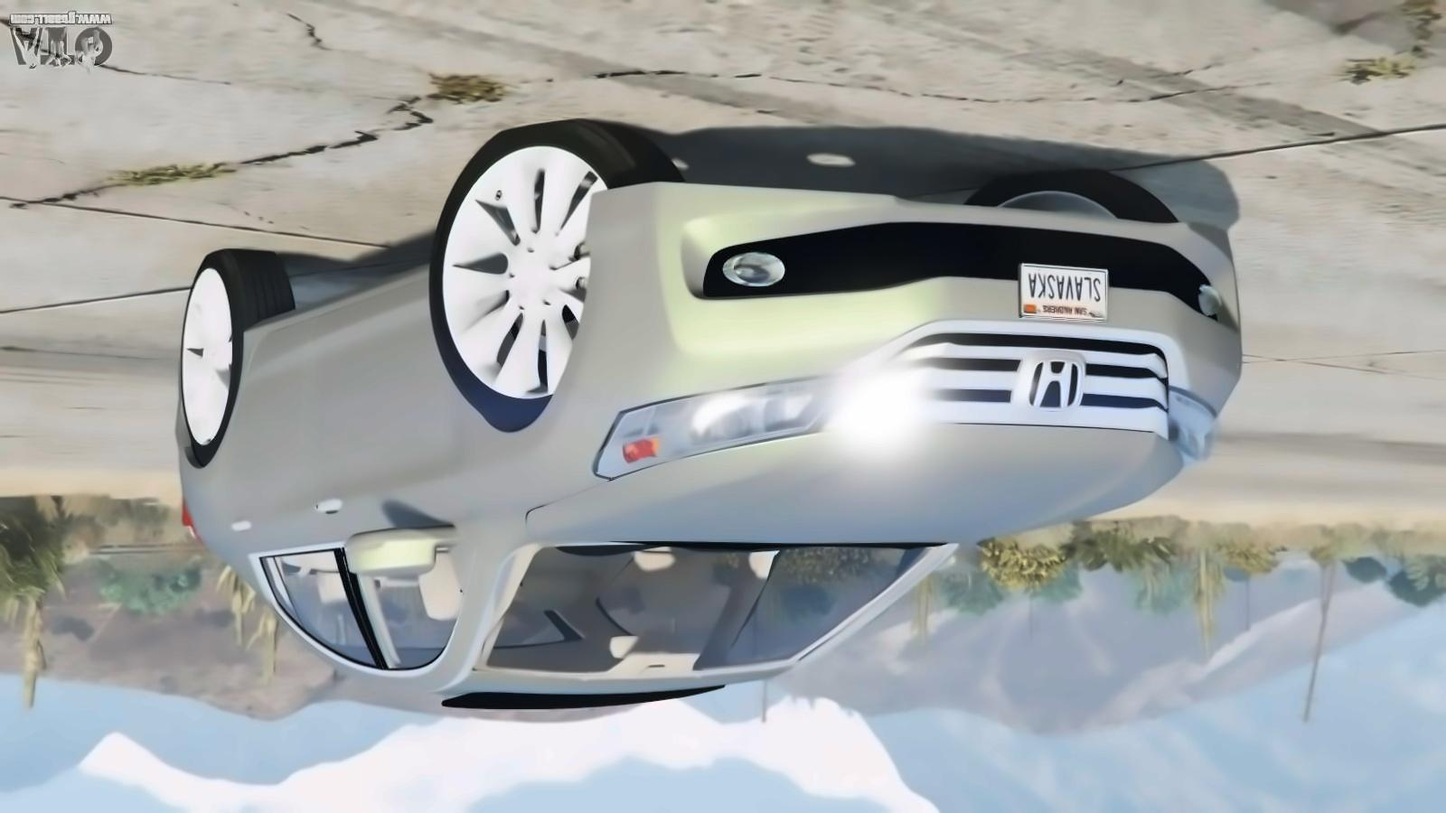Car hood: (521, 414, 1188, 549)
Fender - -F-L-: (426, 267, 599, 565)
Fender - -R-L-: (185, 316, 262, 537)
Front bumper: (583, 178, 1258, 394)
Headlight - -L-: (588, 371, 841, 486)
Headlight - -R-: (1160, 380, 1230, 467)
Passenger-s door - -F-L-: (318, 289, 447, 680)
Passenger-s door - -R-L-: (220, 322, 354, 669)
Rear bumper: (142, 378, 209, 494)
Rear light - -L-: (170, 491, 207, 555)
Side bumper - -L-: (222, 259, 454, 360)
Side mirror - -L-: (332, 517, 462, 582)
